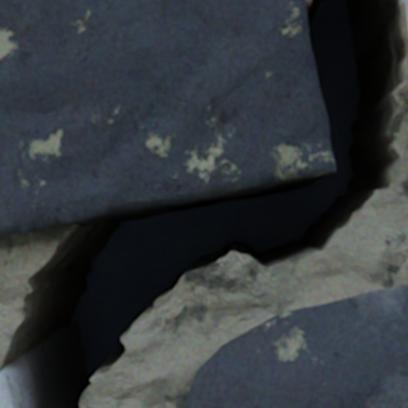brick: (0, 0, 334, 236), (186, 284, 407, 407), (0, 371, 16, 407), (404, 0, 407, 33)
crack: (0, 0, 407, 407)
